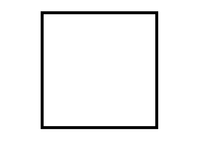kare: (41, 8, 160, 132), (41, 11, 158, 129)
